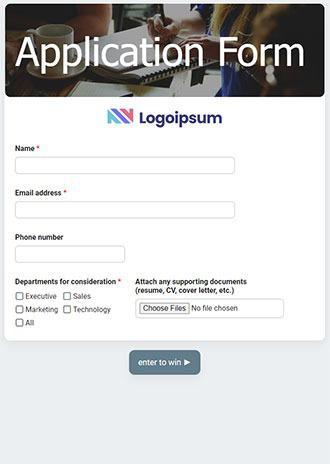button: (130, 351, 202, 376), (138, 301, 194, 316)
checkbox: (16, 293, 25, 301), (17, 319, 25, 328), (64, 306, 72, 315), (64, 293, 72, 301), (17, 307, 24, 314)
input: (16, 157, 236, 174), (16, 202, 235, 219), (134, 298, 284, 320), (16, 246, 126, 264)
label: (134, 276, 250, 297), (14, 278, 124, 289), (13, 187, 69, 199), (15, 233, 66, 243), (15, 144, 43, 154)
